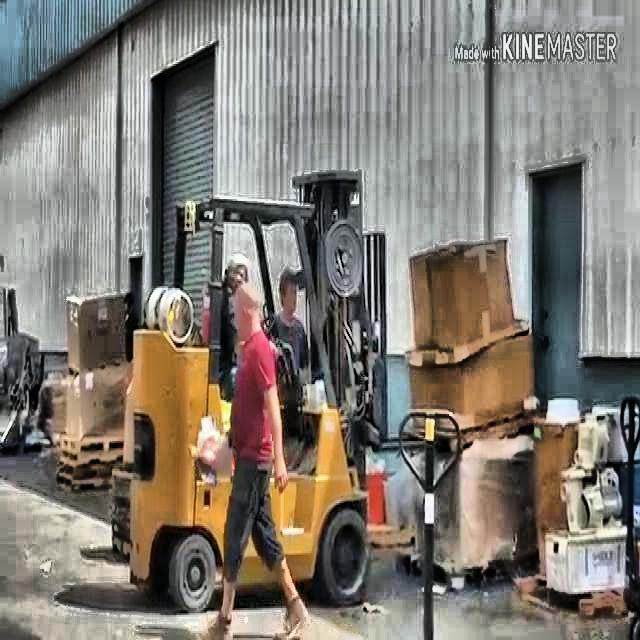bull_dozer/loader/grader: (106, 160, 391, 615)
person: (213, 279, 308, 638)
